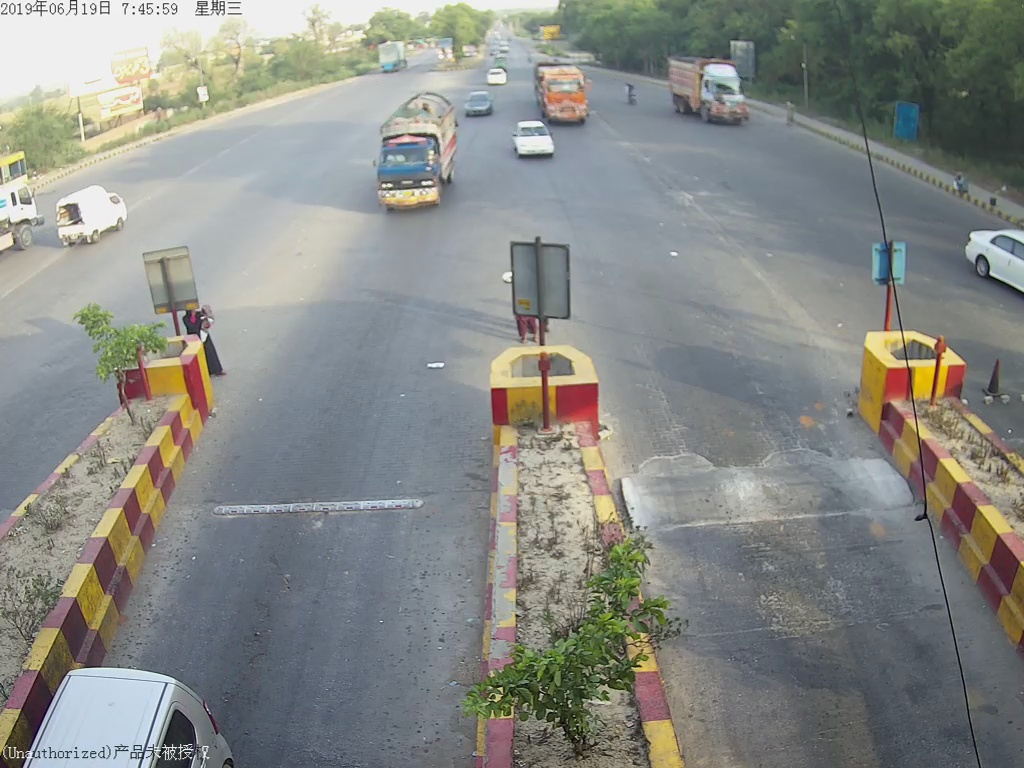Cat-1: (511, 119, 553, 168)
Cat-4: (378, 93, 456, 207)
